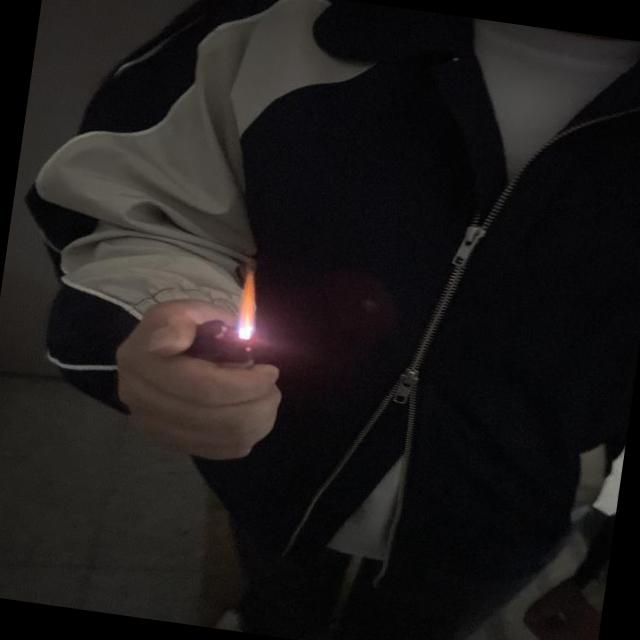Fire: (232, 264, 267, 340)
